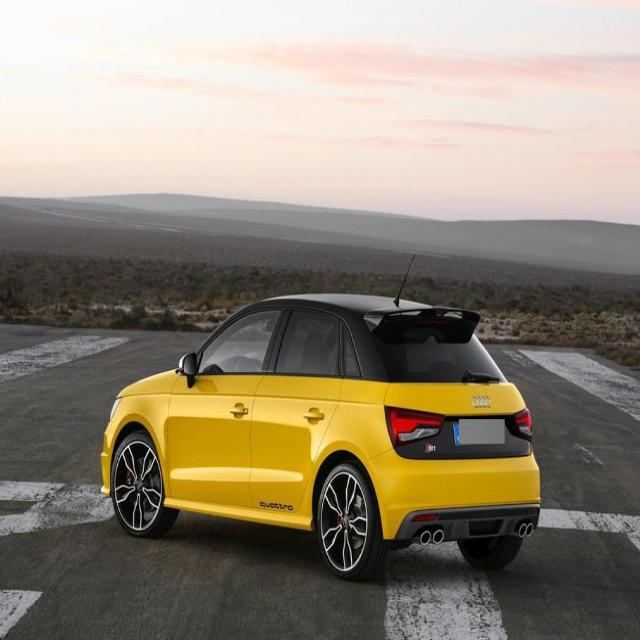back_glass: (366, 308, 510, 385)
back_left_side_light: (383, 402, 447, 449)
back_right_side_light: (508, 401, 534, 446)
door: (252, 308, 346, 507)
front_left_side_door: (165, 296, 290, 516)
front_left_side_light: (108, 392, 125, 423)
front_left_side_mirror: (178, 348, 198, 387)
rear_bumper: (367, 442, 542, 544)
wheel: (317, 461, 379, 578), (114, 430, 172, 535)
